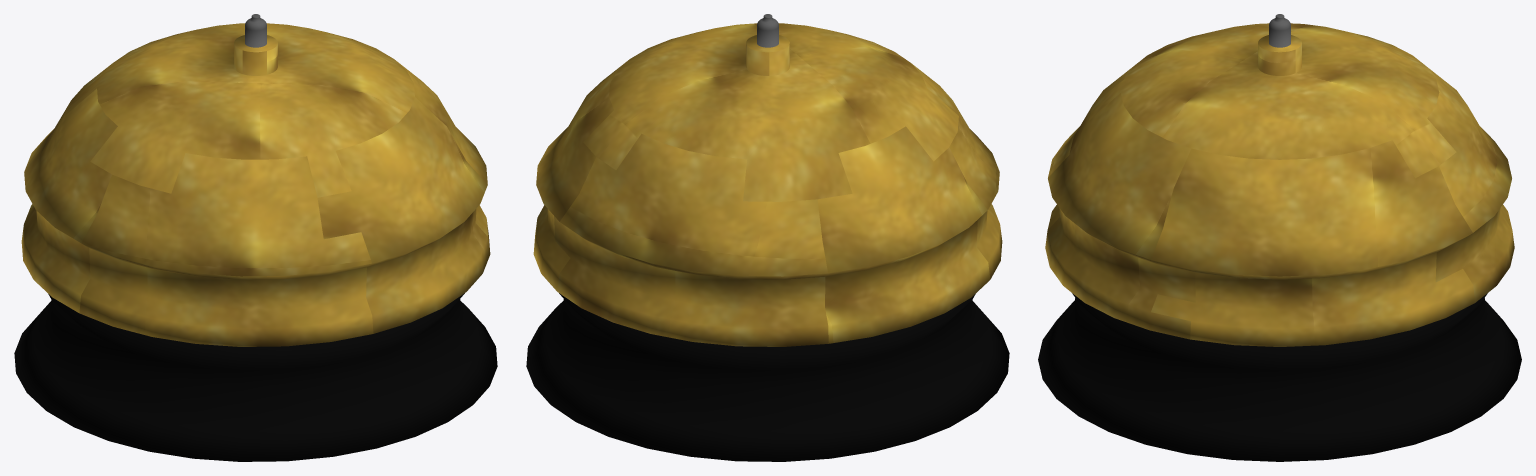
Rendered from ring bell.glb.
The picture shows the model from 3 angles, left to right: view 1: azimuth 30°, elevation 25°; view 2: azimuth 150°, elevation 25°; view 3: azimuth 270°, elevation 25°; orthographic projection.
Parts seen in each view (by area): view 1: RingUpper, RingLower; view 2: RingUpper, RingLower; view 3: RingUpper, RingLower.
Boxes of the visible parts, x1,y1,x2,y2 form: RingUpper: (21, 14, 490, 346); RingLower: (14, 293, 497, 461); RingUpper: (533, 14, 1002, 346); RingLower: (526, 293, 1009, 461); RingUpper: (1045, 14, 1514, 346); RingLower: (1038, 293, 1521, 461).
Size of the model in its own units: 2 by 1.57 by 2.
3 materials, 1 textured.
